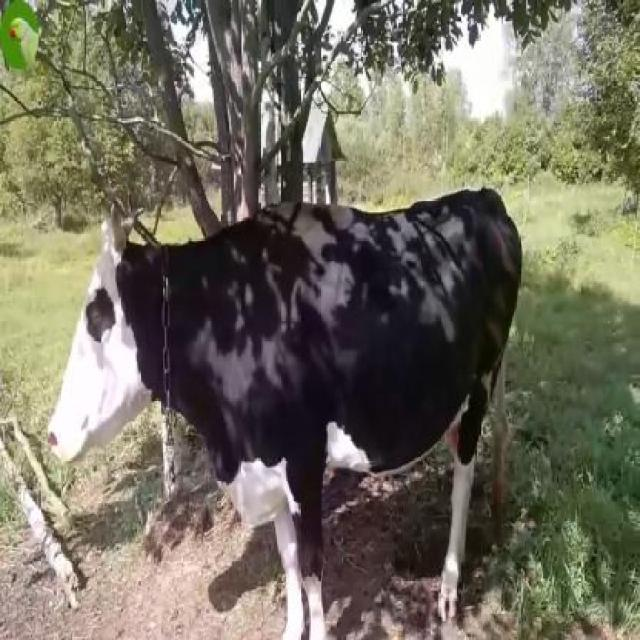Cow: (49, 187, 523, 638)
